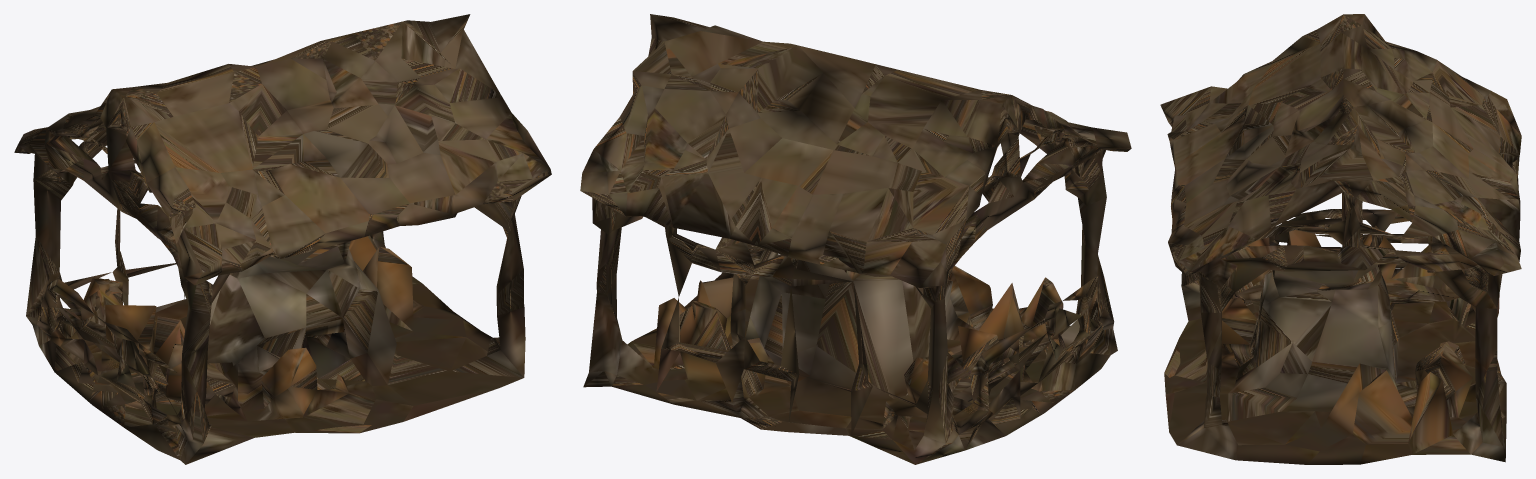
File: bq_pottery.lod2.glb
3 views of the same model, side by side, from view 1: azimuth 30°, elevation 25°; view 2: azimuth 150°, elevation 25°; view 3: azimuth 270°, elevation 25° (orthographic). The views are drawn at different scales.
Parts seen in each view (by area): view 1: mesh_node; view 2: mesh_node; view 3: mesh_node.
Part boxes in pixels (x1=…): mesh_node: x1=14, y1=14, x2=551, y2=464; mesh_node: x1=580, y1=14, x2=1131, y2=464; mesh_node: x1=1160, y1=14, x2=1521, y2=464.
Size of the model in its own units: 1.9 by 1.46 by 1.62.
Materials: 1 (1 with a texture image).
